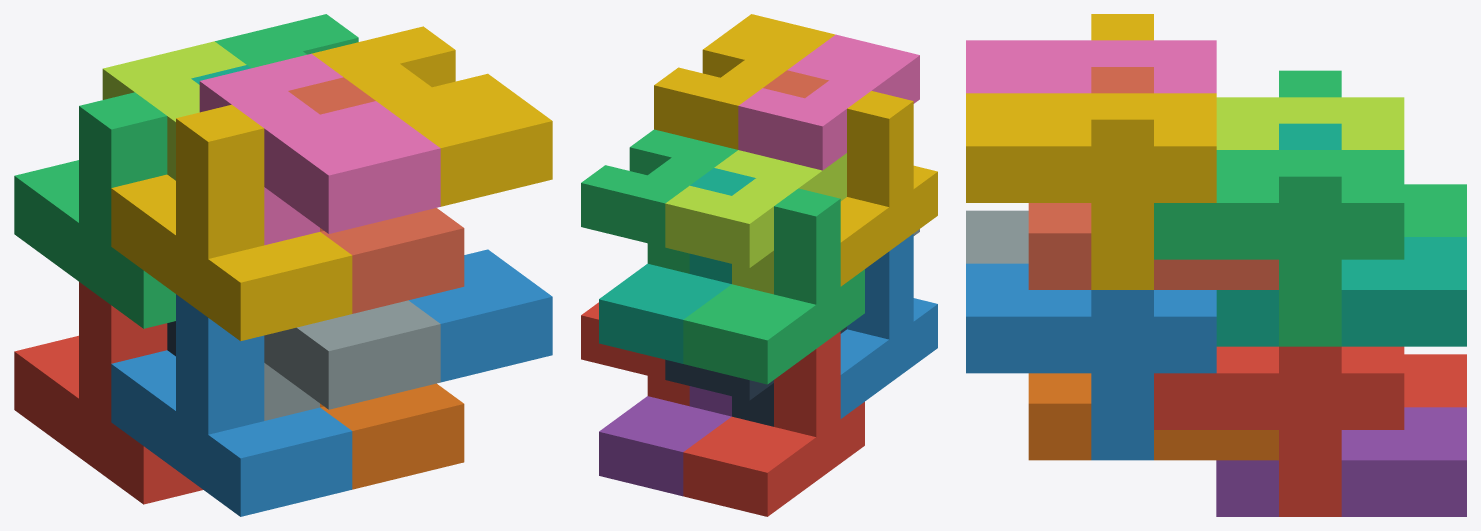
Rendered from tiling.obj.
3 renders of one model, left to right at view 1: azimuth 30°, elevation 25°; view 2: azimuth 150°, elevation 25°; view 3: azimuth 270°, elevation 25°, orthographic. The views are drawn at different scales.
Visible parts, largest first — view 1: copy_1_domain_4, copy_1_domain_2, copy_2_domain_4, copy_2_domain_8, copy_1_domain_3, copy_1_domain_1, copy_2_domain_2, copy_1_domain_8, copy_2_domain_6, copy_1_domain_6, copy_2_domain_3, copy_2_domain_7; view 2: copy_1_domain_3, copy_1_domain_1, copy_2_domain_4, copy_1_domain_4, copy_2_domain_3, copy_2_domain_8, copy_2_domain_7, copy_1_domain_2, copy_1_domain_7, copy_1_domain_5, copy_2_domain_5, copy_2_domain_1 (+1 smaller); view 3: copy_2_domain_8, copy_2_domain_7, copy_2_domain_6, copy_2_domain_5, copy_1_domain_7, copy_1_domain_5, copy_2_domain_4, copy_1_domain_8, copy_1_domain_6, copy_2_domain_3, copy_1_domain_3, copy_1_domain_1 (+2 smaller).
Boxes of the visible parts, <box> form: copy_1_domain_4: <box>111,104,352,341</box>; copy_1_domain_2: <box>111,294,352,516</box>; copy_2_domain_4: <box>199,53,440,245</box>; copy_2_domain_8: <box>312,26,552,206</box>; copy_1_domain_3: <box>14,92,175,328</box>; copy_1_domain_1: <box>14,282,202,504</box>; copy_2_domain_2: <box>264,300,440,420</box>; copy_1_domain_8: <box>288,77,464,313</box>; copy_2_domain_6: <box>409,249,552,382</box>; copy_1_domain_6: <box>320,383,464,489</box>; copy_2_domain_3: <box>102,41,246,180</box>; copy_2_domain_7: <box>215,14,358,68</box>; copy_1_domain_3: <box>683,188,864,384</box>; copy_1_domain_1: <box>683,331,864,516</box>; copy_2_domain_4: <box>738,34,919,170</box>; copy_1_domain_4: <box>840,91,937,286</box>; copy_2_domain_3: <box>665,150,846,294</box>; copy_2_domain_8: <box>654,14,835,149</box>; copy_2_domain_7: <box>581,129,737,273</box>; copy_1_domain_2: <box>840,234,937,418</box>; copy_1_domain_7: <box>599,168,755,363</box>; copy_1_domain_5: <box>599,386,731,496</box>; copy_2_domain_5: <box>581,302,689,406</box>; copy_2_domain_1: <box>665,326,846,426</box>; copy_2_domain_8: <box>966,93,1216,289</box>; copy_2_domain_7: <box>1154,150,1404,346</box>; copy_2_domain_6: <box>966,263,1216,460</box>; copy_2_domain_5: <box>1154,346,1404,516</box>; copy_1_domain_7: <box>1216,123,1466,346</box>; copy_1_domain_5: <box>1216,407,1466,516</box>; copy_2_domain_4: <box>966,40,1216,93</box>; copy_1_domain_8: <box>1028,67,1278,289</box>; copy_1_domain_6: <box>1028,373,1278,460</box>; copy_2_domain_3: <box>1216,97,1404,149</box>; copy_1_domain_3: <box>1279,70,1466,236</box>; copy_1_domain_1: <box>1404,354,1466,407</box>.
Size of the model in its own units: 5 by 7 by 8.
